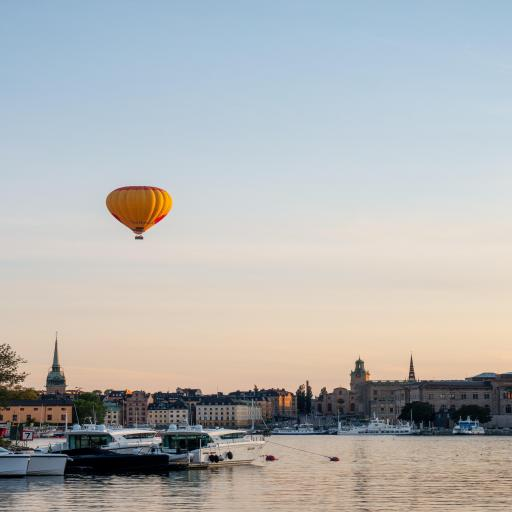hot air ballon: (105, 186, 173, 240)
